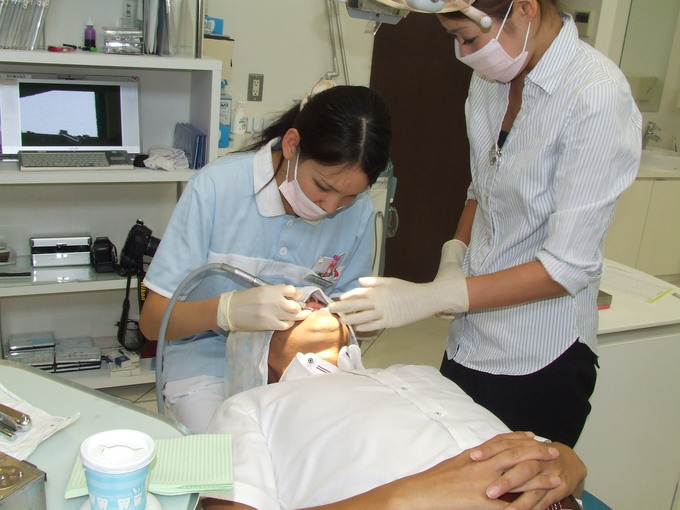mask: (455, 40, 528, 85), (281, 178, 351, 220)
